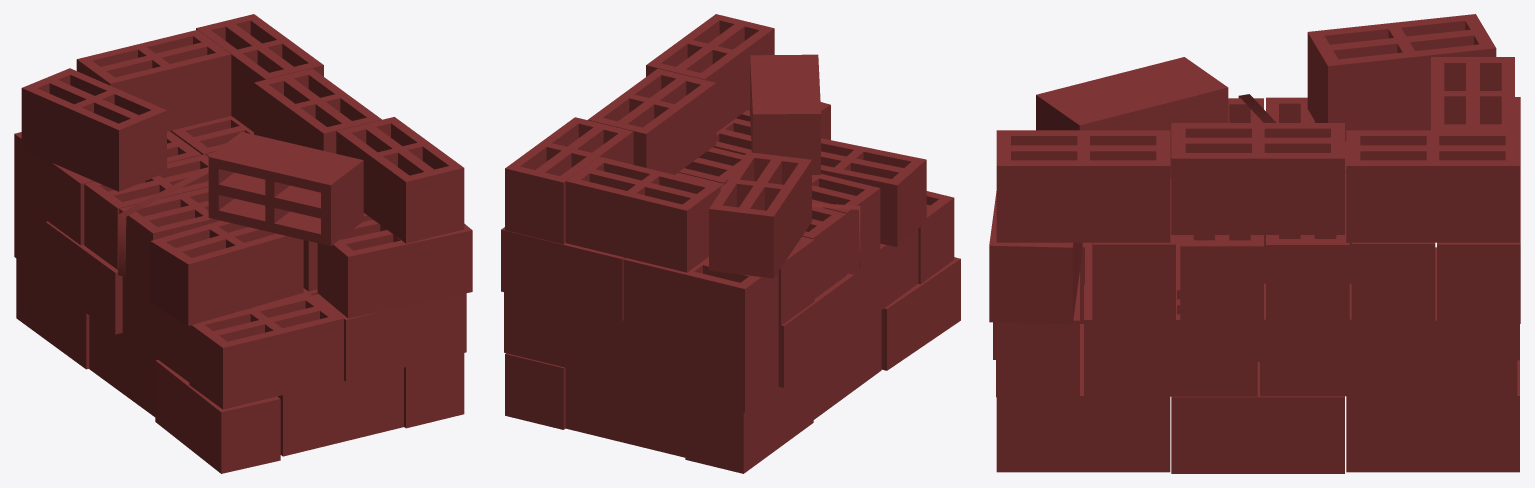
The model's file is SM_Stone01Pack02.fbx.
The picture shows the model from 3 angles, left to right: view 1: azimuth 30°, elevation 25°; view 2: azimuth 150°, elevation 25°; view 3: azimuth 270°, elevation 25°; orthographic projection. The views are drawn at different scales.
Parts seen in each view (by area): view 1: Stone01Pack02; view 2: Stone01Pack02; view 3: Stone01Pack02.
Part boxes in pixels (<box>): Stone01Pack02: <box>14,14,472,473</box>; Stone01Pack02: <box>501,14,960,473</box>; Stone01Pack02: <box>989,14,1520,473</box>.
Bounding box in the file's own units: 83.49 × 76 × 119.
